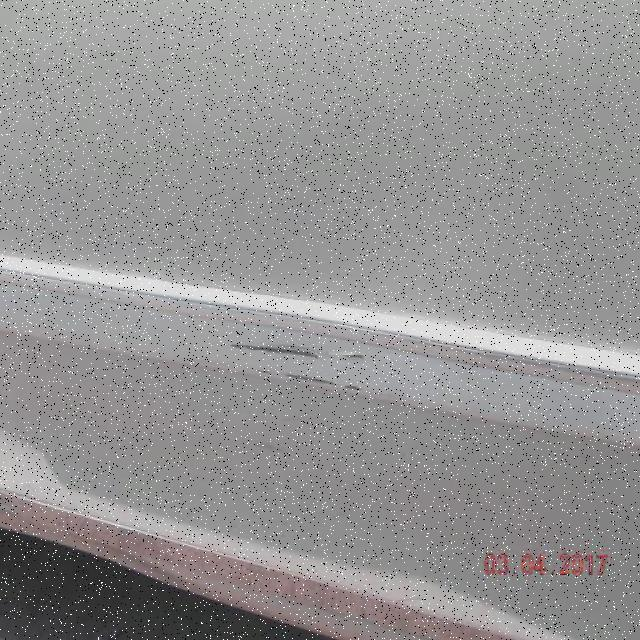car damage: (226, 325, 367, 398)
